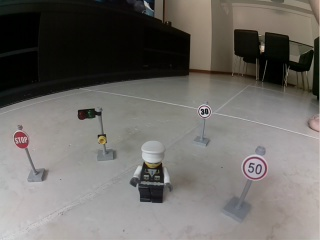Person: (130, 139, 173, 205)
Red Traffic Light: (77, 108, 115, 162)
Speed Limit 30: (197, 104, 212, 119)
Speed Limit 50: (241, 155, 269, 182)
Stop Sign: (13, 131, 30, 149)
